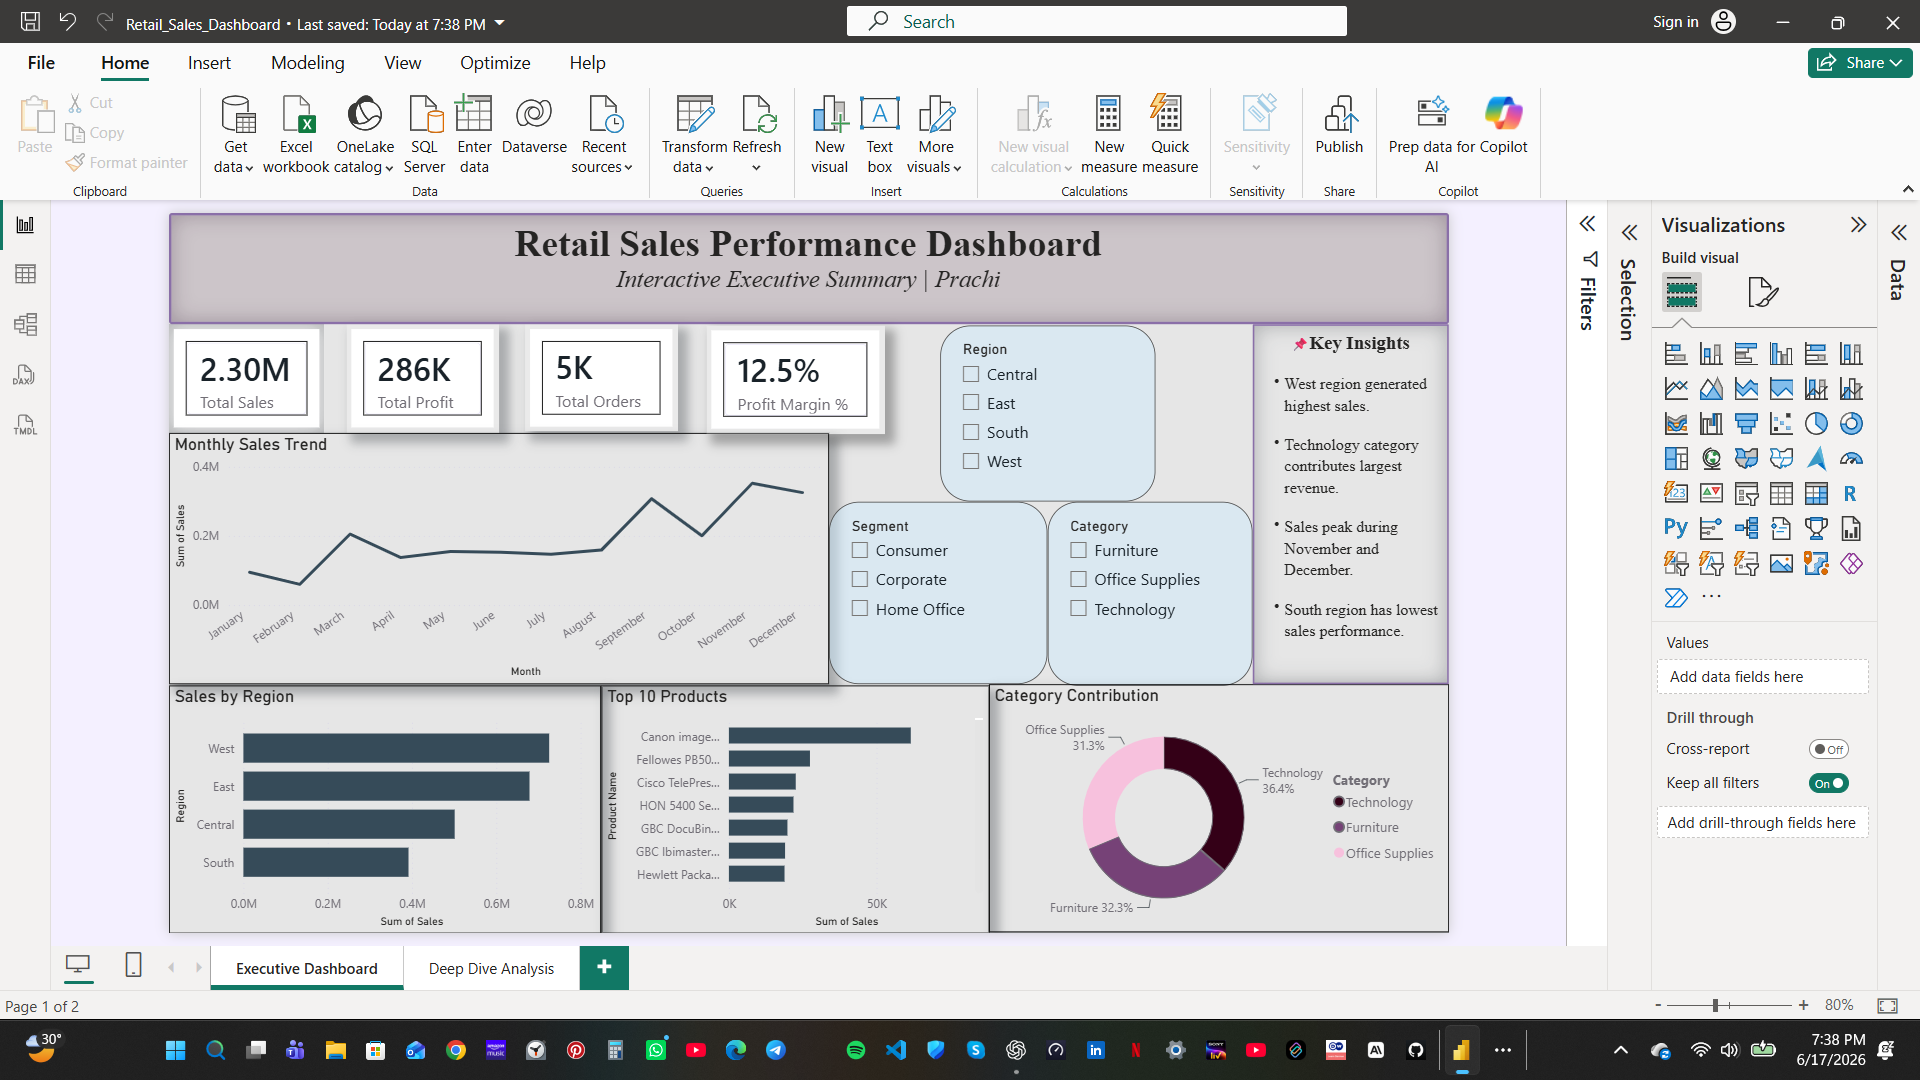

The page's visual inventory and layout, read from the dashboard file:
{"tool":"powerbi","page":{"name":"Executive Dashboard","canvas":[1280,720],"ordinal":0},"visuals":[{"type":"cardVisual","fields":{"Data":["Sample - Superstore.Total Orders"]},"box":[356.2,111.2,152.5,107.5],"z":0},{"type":"cardVisual","fields":{"Data":["Sample - Superstore.Total Sales"]},"box":[0,111.2,155,108.8],"z":1000},{"type":"cardVisual","fields":{"Data":["Sample - Superstore.Total Profit"]},"box":[177.5,111.2,152.5,108.8],"z":2000},{"type":"lineChart","title":"Monthly Sales Trend","fields":{"Category":["Sample - Superstore.Order Date.Variation.Date Hierarchy.Year","Sample - Superstore.Order Date.Variation.Date Hierarchy.Quarter","Sample - Superstore.Order Date.Variation.Date Hierarchy.Month","Sample - Superstore.Order Date.Variation.Date Hierarchy.Day"],"Y":["Sum(Sample - Superstore.Sales)"]},"box":[0,220,660,251.2],"z":3000},{"type":"clusteredBarChart","title":"Sales by Region","fields":{"Category":["Sample - Superstore.Region"],"Y":["Sum(Sample - Superstore.Sales)"]},"box":[0,472,432,248],"z":4000},{"type":"clusteredBarChart","title":"Top 10 Products","fields":{"Category":["Sample - Superstore.Product Name"],"Y":["Sum(Sample - Superstore.Sales)"]},"box":[432,472,388,248],"z":5000},{"type":"slicer","fields":{"Values":["Sample - Superstore.Region"]},"box":[771.2,112.5,215,176.2],"z":6000},{"type":"slicer","fields":{"Values":["Sample - Superstore.Category"]},"box":[878.8,288.8,205,183.8],"z":7000},{"type":"slicer","fields":{"Values":["Sample - Superstore.Segment"]},"box":[660,288.8,218.8,182.5],"z":8000},{"type":"textbox","box":[0,0,1280,111.2],"z":9000},{"type":"donutChart","title":"Category Contribution","fields":{"Category":["Sample - Superstore.Category"],"Y":["Sum(Sample - Superstore.Sales)"]},"box":[820,471.8,460,248.2],"z":10000},{"type":"textbox","box":[1083.8,111.2,196.2,360],"z":11000},{"type":"cardVisual","fields":{"Data":["Sample - Superstore.Profit Margin %"]},"box":[537.5,112.5,178.8,108.8],"z":11001}]}

Visuals, with their boxes on the page's 1280x720 design canvas (x1, y1, x2, y2). These are canvas units, not pixel positions in the 1920x1080 screenshot, which may show the page scaled, cropped or inside an application window:
cardVisual - Sample - Superstore.Total Orders: Rect(356, 111, 509, 219)
cardVisual - Sample - Superstore.Total Sales: Rect(0, 111, 155, 220)
cardVisual - Sample - Superstore.Total Profit: Rect(178, 111, 330, 220)
"Monthly Sales Trend" lineChart: Rect(0, 220, 660, 471)
"Sales by Region" clusteredBarChart: Rect(0, 472, 432, 720)
"Top 10 Products" clusteredBarChart: Rect(432, 472, 820, 720)
slicer - Sample - Superstore.Region: Rect(771, 112, 986, 289)
slicer - Sample - Superstore.Category: Rect(879, 289, 1084, 473)
slicer - Sample - Superstore.Segment: Rect(660, 289, 879, 471)
textbox: Rect(0, 0, 1280, 111)
"Category Contribution" donutChart: Rect(820, 472, 1280, 720)
textbox: Rect(1084, 111, 1280, 471)
cardVisual - Sample - Superstore.Profit Margin %: Rect(538, 112, 716, 221)
